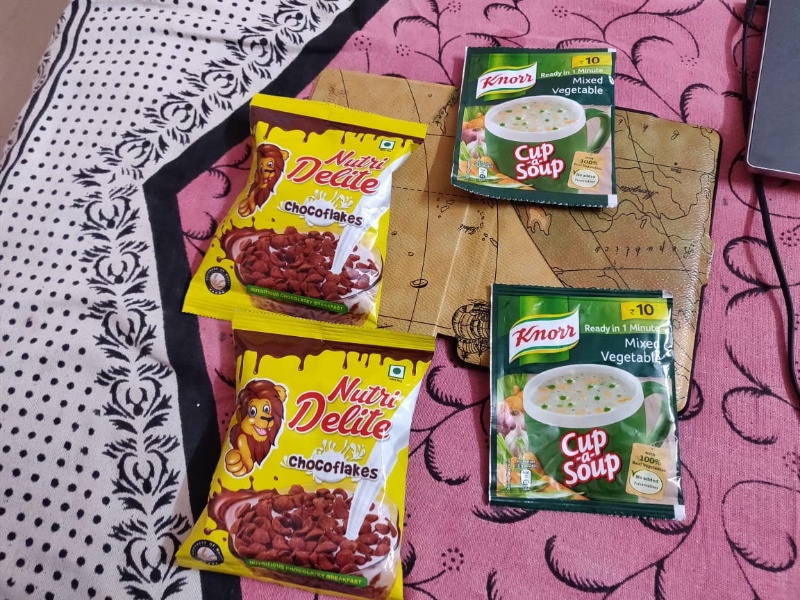Knorr_Cup_Soup: (479, 284, 688, 528), (452, 35, 620, 219)
nutriDelite: (183, 335, 426, 600), (189, 72, 396, 334)
